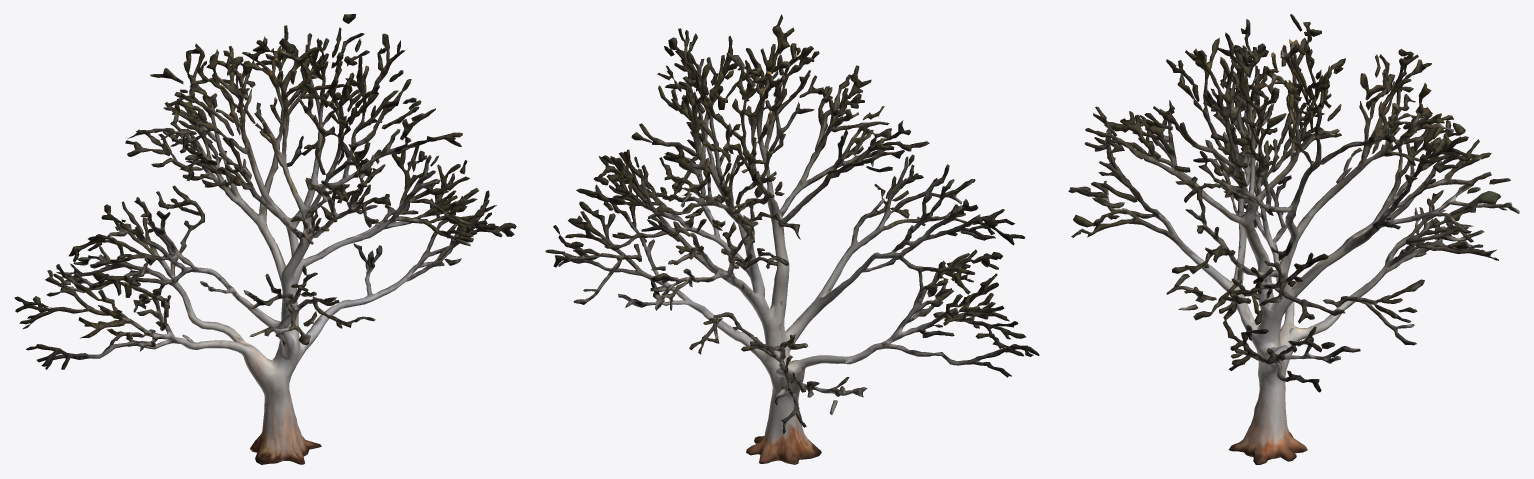
The model's file is AI_GhostGum01.fbx.
3 views of the same model, side by side, from view 1: azimuth 30°, elevation 25°; view 2: azimuth 150°, elevation 25°; view 3: azimuth 270°, elevation 25° (orthographic). The views are drawn at different scales.
Visible parts, largest first — view 1: Mesh1.0; view 2: Mesh1.0; view 3: Mesh1.0.
Part boxes in pixels (bbox=[...]): Mesh1.0: bbox=[14, 14, 516, 464]; Mesh1.0: bbox=[545, 14, 1039, 464]; Mesh1.0: bbox=[1068, 14, 1519, 464].
Bounding box in the file's own units: 198 × 160 × 154.
1 material, 1 textured.
